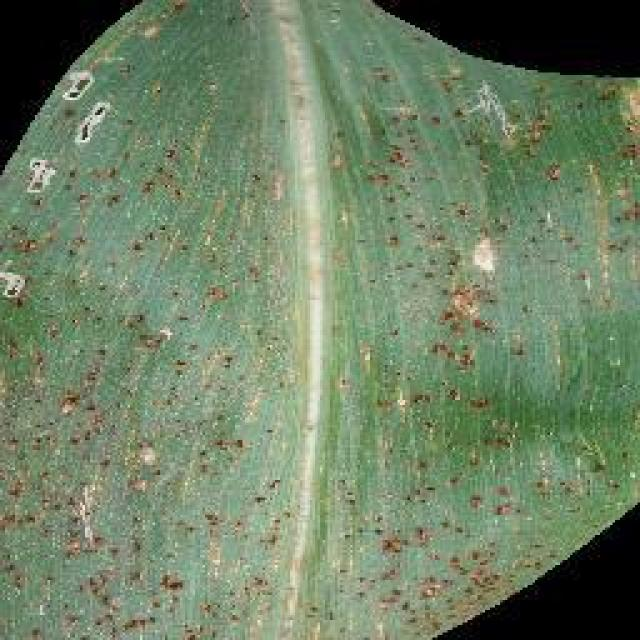Corn Common Rust: (81, 106, 580, 640)
